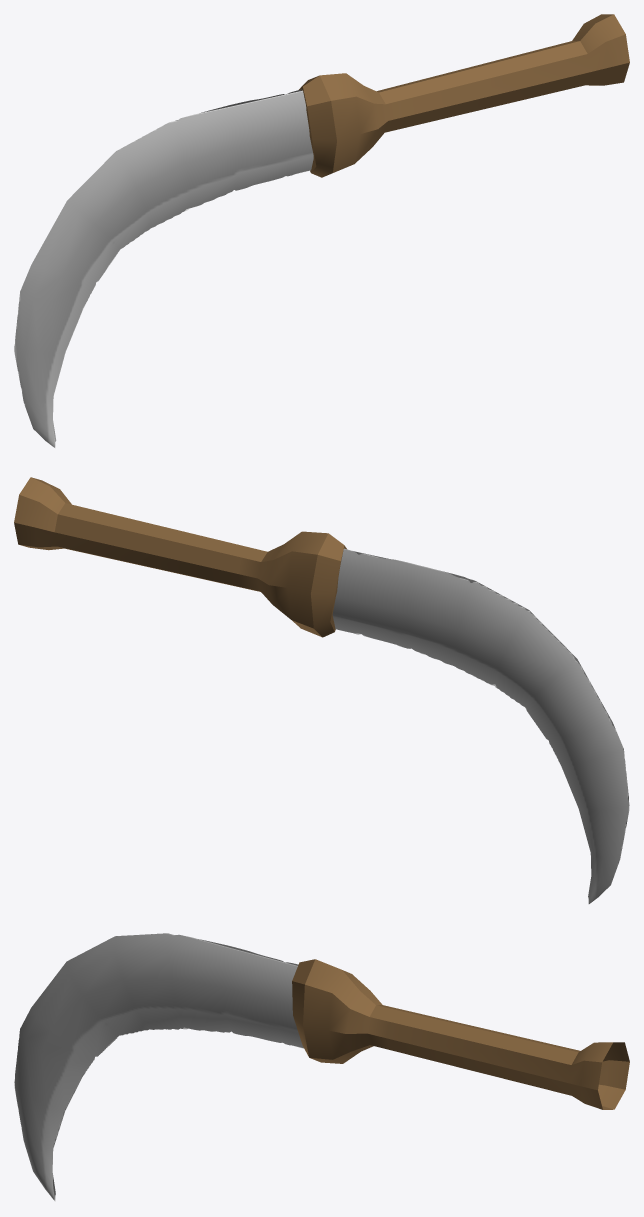
File: Left.Arm.fbx
3 renders of one model, top to bottom at view 1: azimuth 30°, elevation 25°; view 2: azimuth 150°, elevation 25°; view 3: azimuth 330°, elevation 25°, orthographic.
Parts seen in each view (by area): view 1: Left.Arm; view 2: Left.Arm; view 3: Left.Arm.
Boxes of the visible parts, <box> form: Left.Arm: <box>14,14,629,448</box>; Left.Arm: <box>14,477,629,903</box>; Left.Arm: <box>14,933,629,1201</box>.
Bounding box in the file's own units: 1.57 × 0.7717 × 0.1608.
